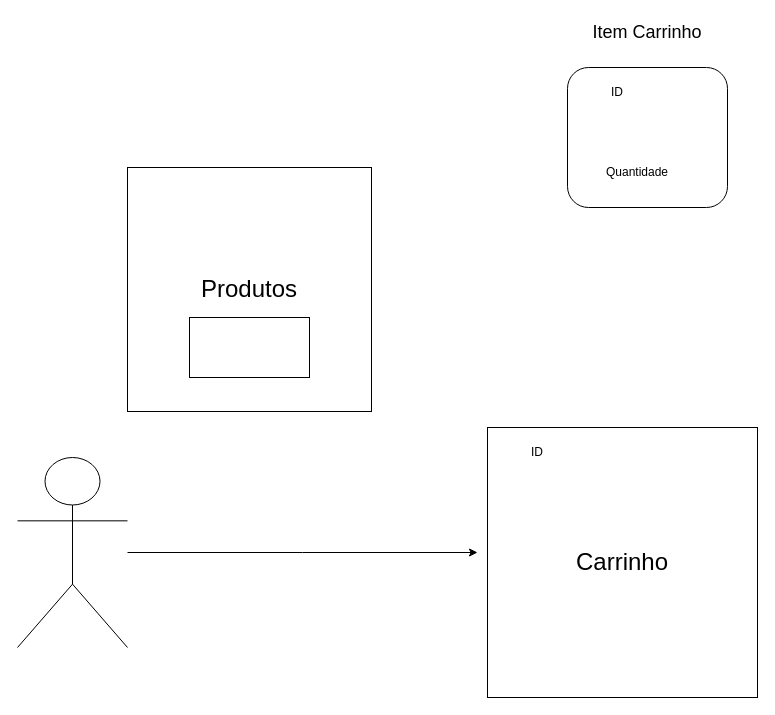
This 775x715 diagram has some shape labels left out. Each missing label, with the centre of its shape:
"Actor" goes at (x=72, y=552).
"Banana" goes at (x=249, y=347).
